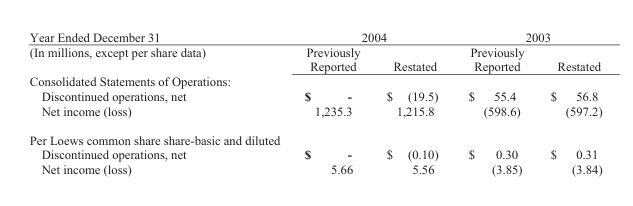table: (28, 29, 601, 175)
table column: (28, 29, 254, 175), (254, 29, 372, 175), (452, 29, 536, 175), (372, 29, 452, 175), (536, 29, 601, 175)
table column header: (28, 29, 601, 73)
table projected row header: (28, 124, 601, 146), (28, 73, 601, 88)
table row: (28, 44, 601, 73), (28, 124, 601, 146), (28, 103, 601, 124), (28, 29, 601, 44), (28, 73, 601, 88), (28, 88, 601, 103), (28, 146, 601, 161), (28, 161, 601, 175)
table spanning cell: (28, 29, 254, 73), (254, 29, 452, 44), (452, 29, 601, 44)
